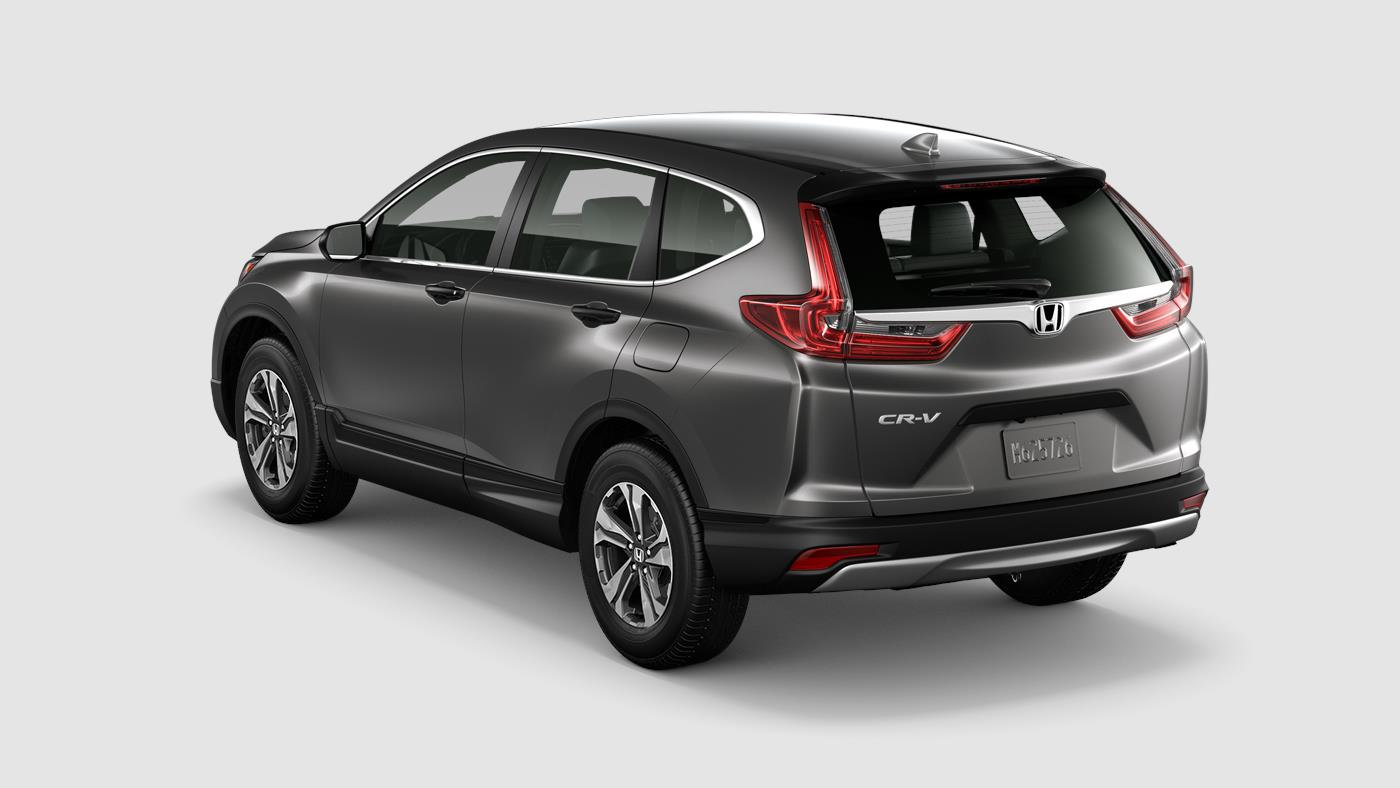crv: (198, 95, 1228, 683)
